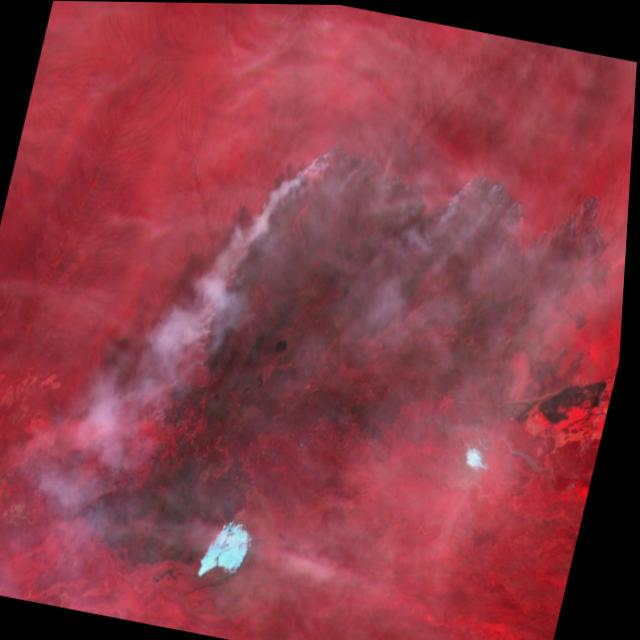fire: (153, 112, 635, 515)
